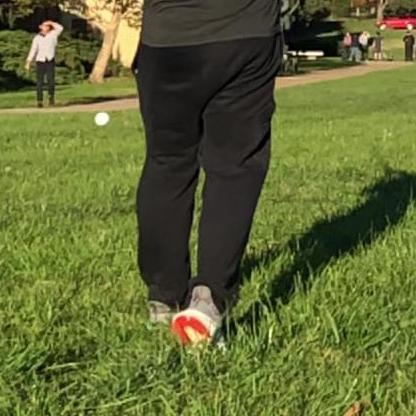golfball: (91, 109, 108, 126)
